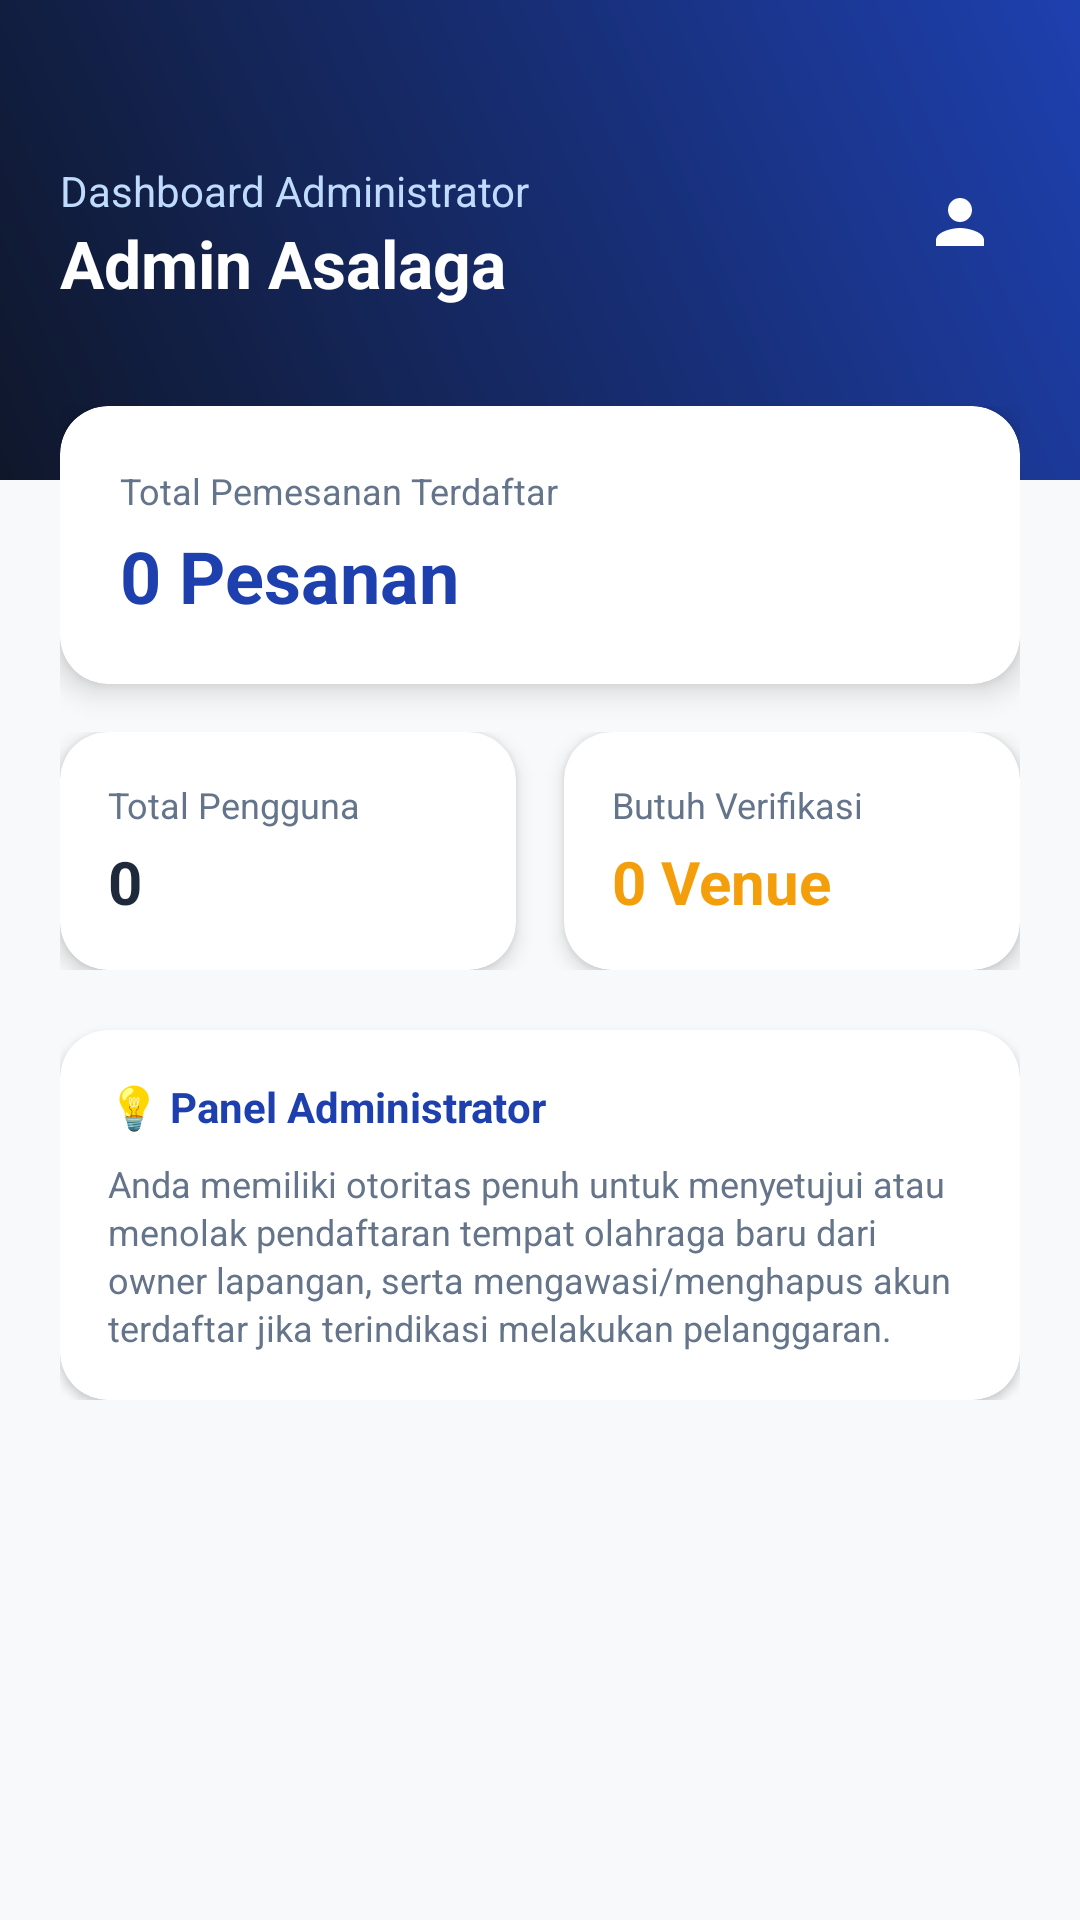

Screen size 1080 x 1920. Icon name, then its box in pixels as (x1, y1, x2, y2):
Profil: (936, 198, 984, 246)
